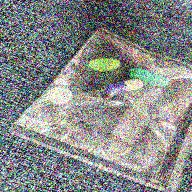러키펜정: (48, 87, 73, 106)
씨엠지세파클러캡슐: (102, 79, 144, 97)
에르도캡슐: (128, 68, 171, 88)
휴티렌정: (88, 58, 121, 73)
